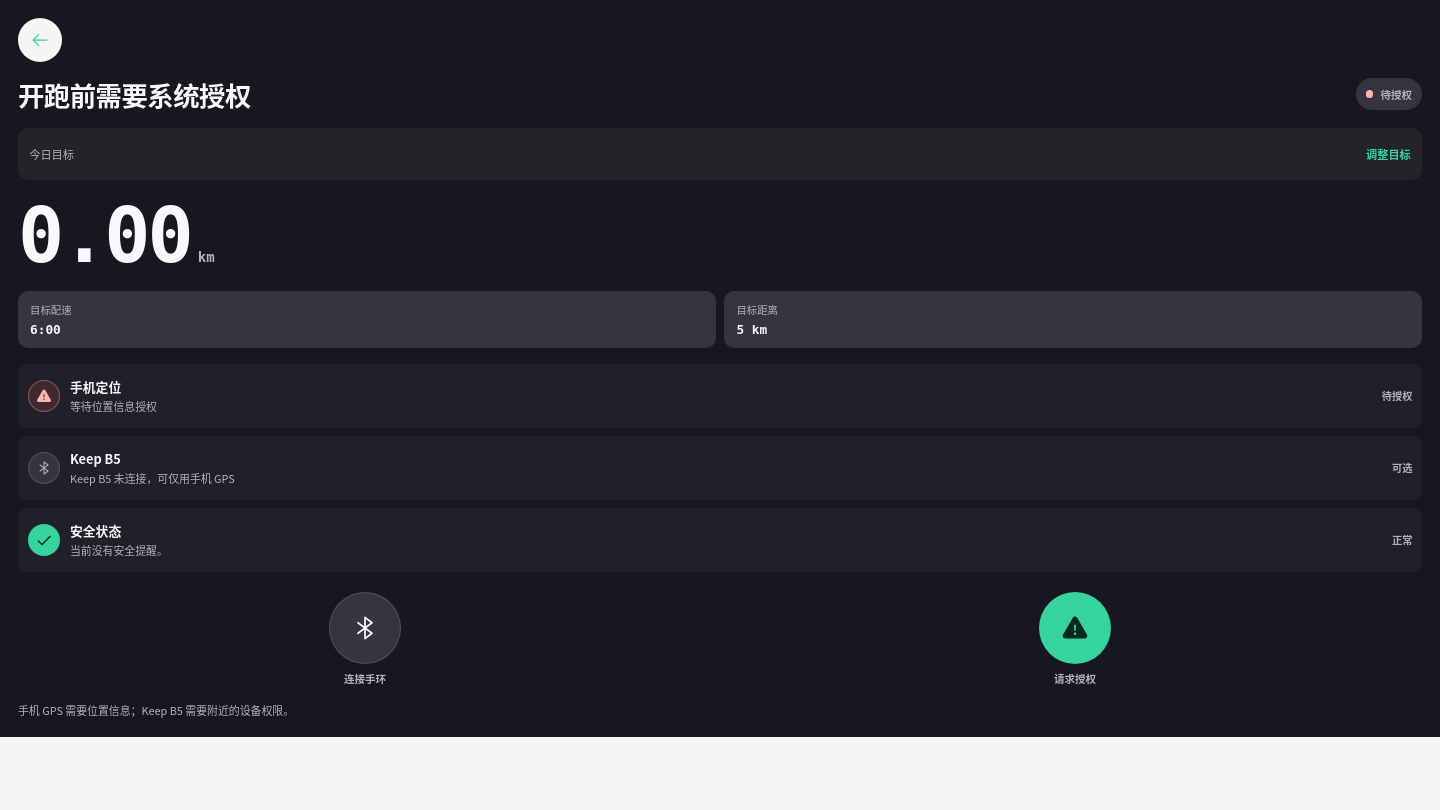
跑步页真实数据 › 开跑前只派发手环连接且等待期间防重复点击，不虚报连接成功
Click the button named "连接手环". click: (365, 628)
box: x1=329 y1=592 x2=401 y2=664
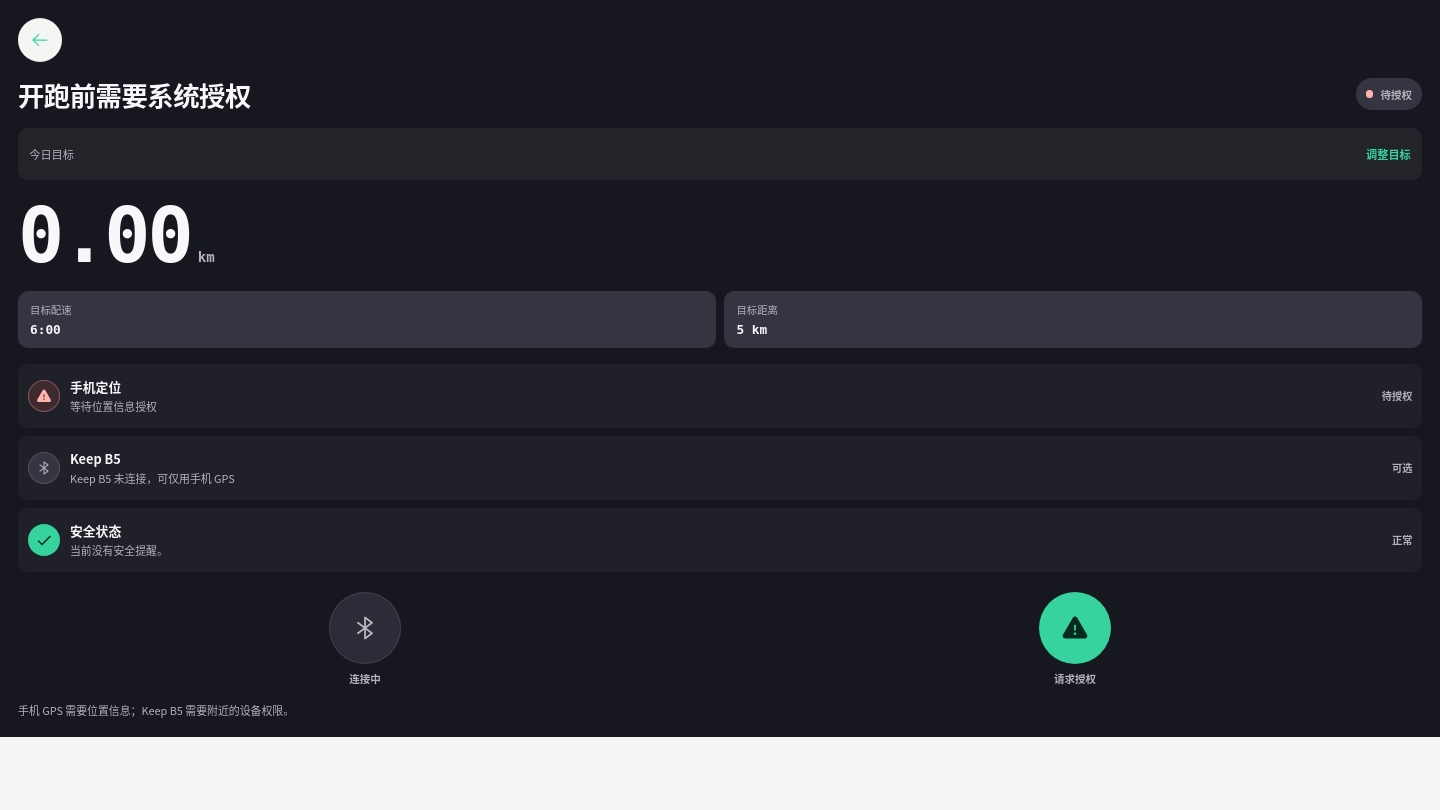
Expected: the button named "正在连接手环…" is disabled
Click the button named "正在连接手环…". click: (365, 628)
box: x1=329 y1=592 x2=401 y2=664
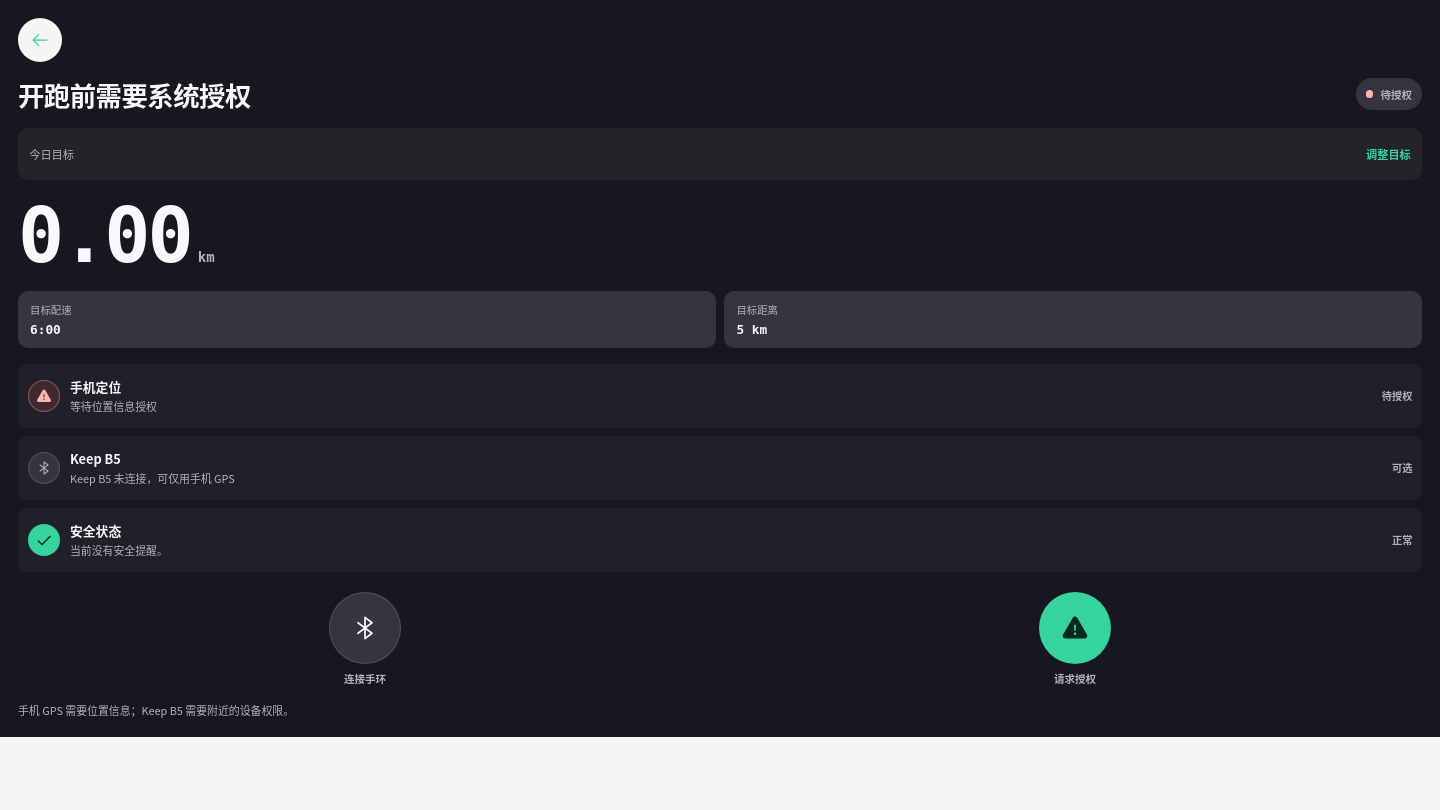
Expected: the text "Keep B5 未连接，可仅用手机 GPS" is shown, x1=70 y1=470 x2=235 y2=486
Expected: the button named "连接手环" is enabled, x1=329 y1=592 x2=401 y2=664
